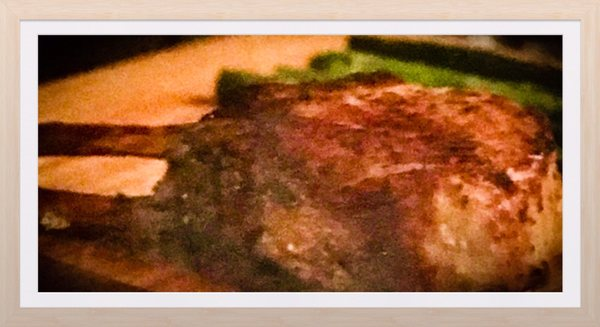sandwich: (36, 44, 562, 292)
